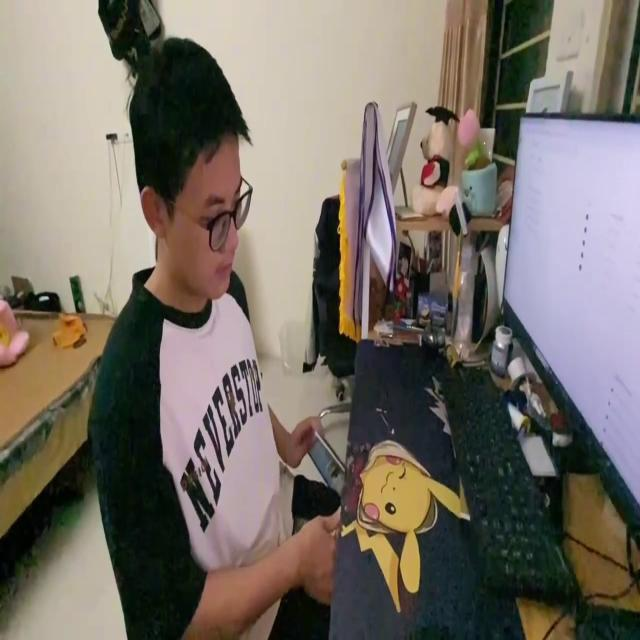book: (304, 418, 348, 500)
laptop: (499, 107, 640, 549)
student: (86, 31, 344, 635)
